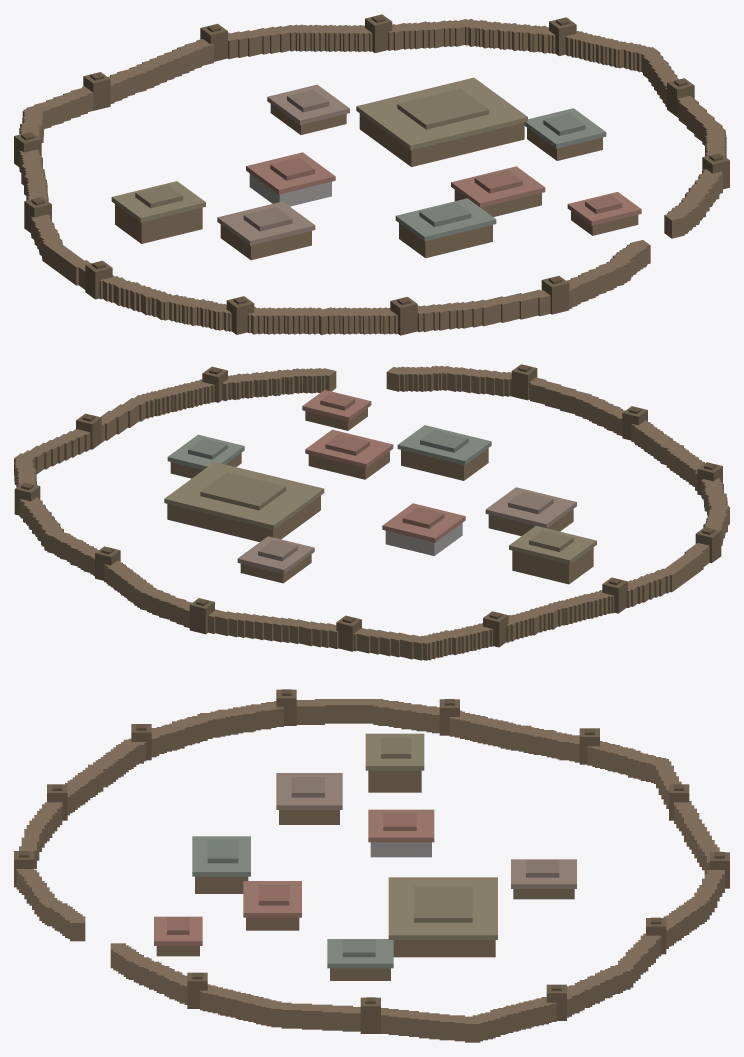
The model's file is ciudad_guarida_bandidos_2386_1597_01.glb.
3 views of the same model, one above another, from view 1: azimuth 30°, elevation 25°; view 2: azimuth 150°, elevation 25°; view 3: azimuth 270°, elevation 25° (orthographic). The views are drawn at different scales.
Parts seen in each view (by area): view 1: ciudad_guarida_bandidos_2386_1597; view 2: ciudad_guarida_bandidos_2386_1597; view 3: ciudad_guarida_bandidos_2386_1597.
Part boxes in pixels (x1,y1,x2,y2): ciudad_guarida_bandidos_2386_1597: (14,14,729,335); ciudad_guarida_bandidos_2386_1597: (14,364,729,660); ciudad_guarida_bandidos_2386_1597: (14,689,729,1042).
Bounding box in the file's own units: 75.5 × 3.5 × 70.25.
